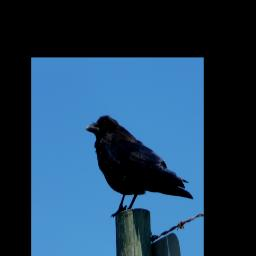Crow: (84, 99, 195, 223)
